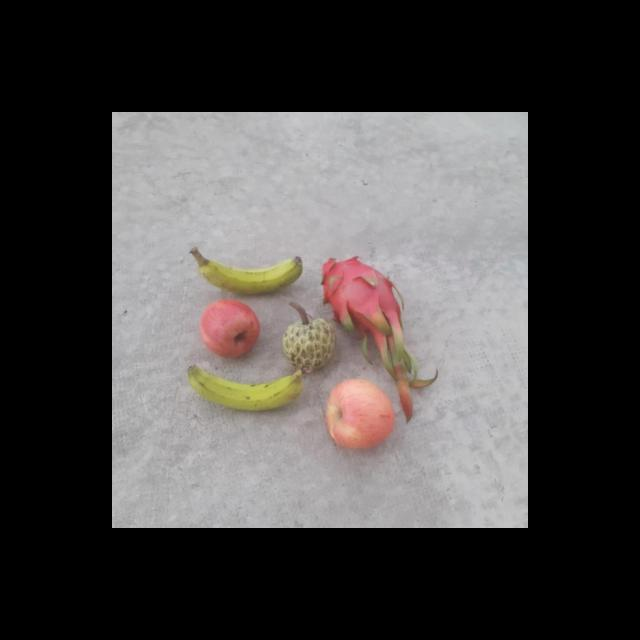Sakya fruit: (280, 311, 340, 374)
apple: (322, 378, 396, 454), (198, 295, 262, 360)
banana: (188, 364, 306, 411), (196, 254, 311, 296)
pitaya: (319, 249, 413, 334)
